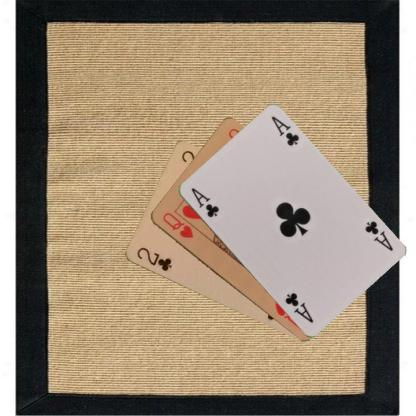2c: (134, 244, 174, 273)
Ac: (188, 185, 220, 219), (362, 218, 394, 252)
Qh: (160, 210, 194, 240)
